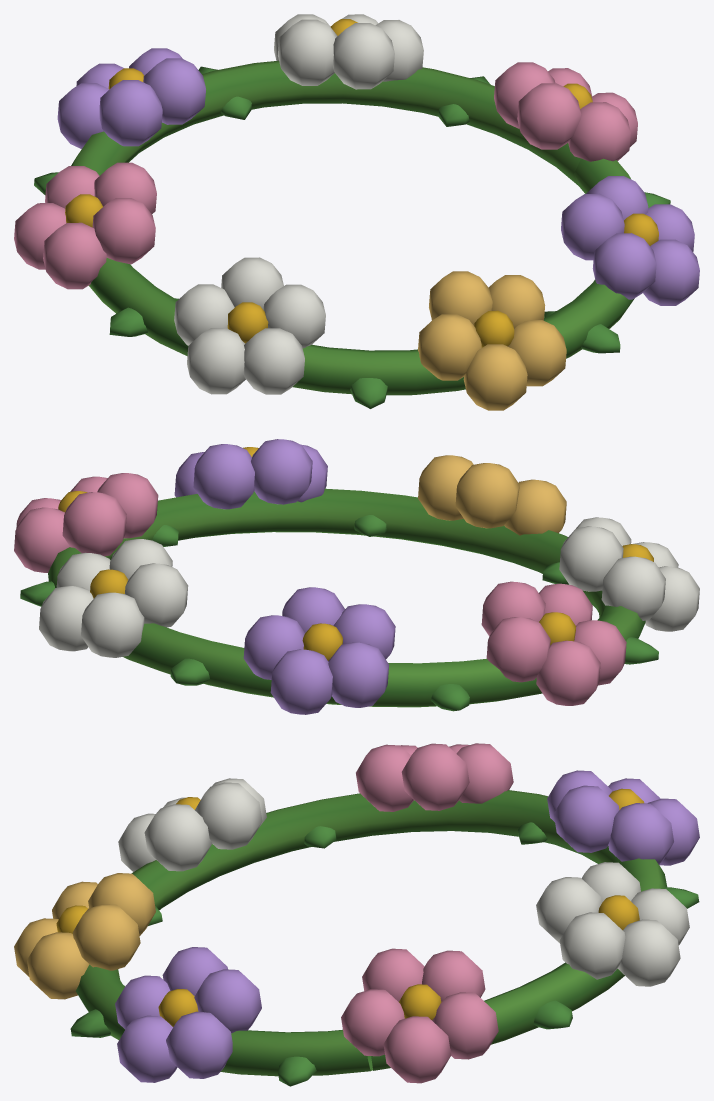
File: Wear_Flower.fbx
The picture shows the model from 3 angles, top to bottom: view 1: azimuth 30°, elevation 25°; view 2: azimuth 150°, elevation 25°; view 3: azimuth 270°, elevation 25°; orthographic projection.
Visible parts, largest first — view 1: Wear_Flower; view 2: Wear_Flower; view 3: Wear_Flower.
Boxes of the visible parts, left/top/right/bottom form: Wear_Flower: left=14, top=14, right=699, bottom=410; Wear_Flower: left=14, top=439, right=699, bottom=714; Wear_Flower: left=14, top=743, right=699, bottom=1086.
Size of the model in its own units: 0.125 by 0.0332 by 0.1232.
